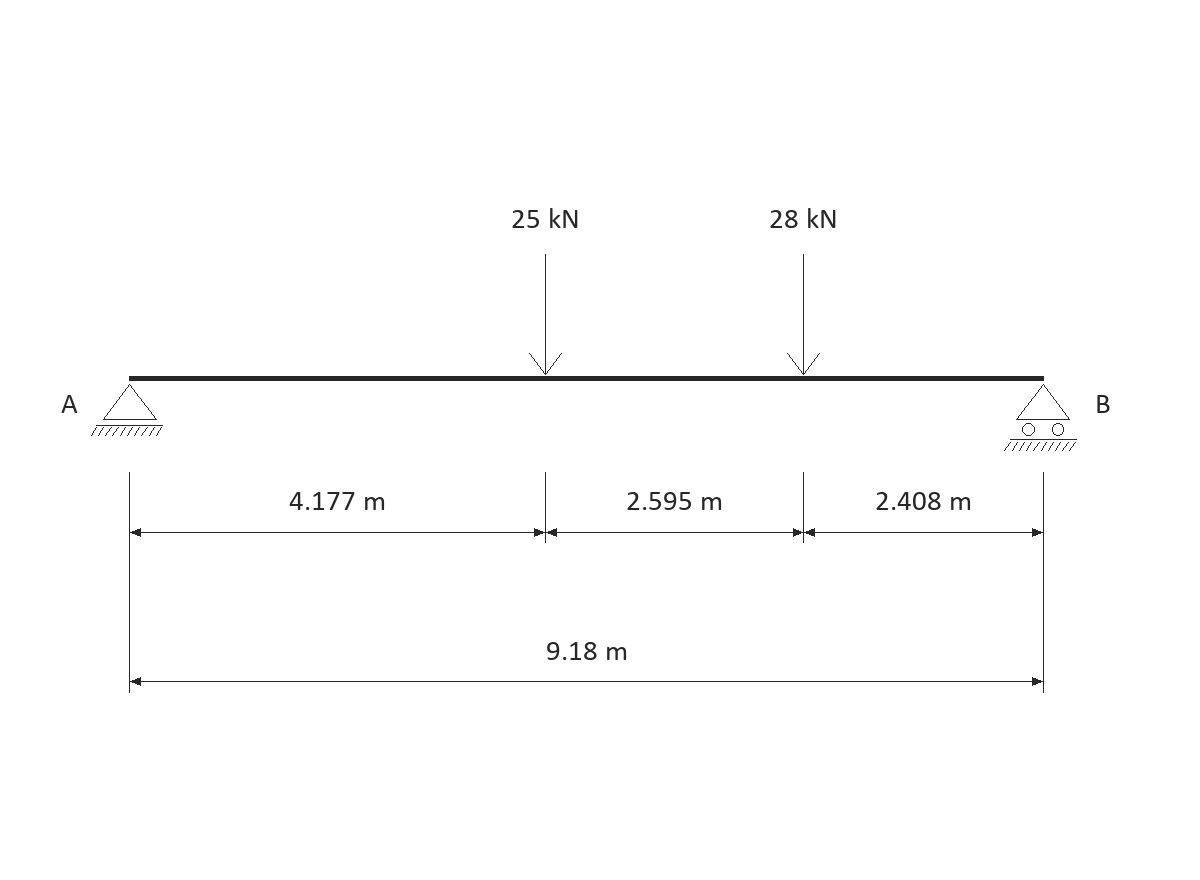pin_support: (91, 384, 163, 436)
point_load: (529, 254, 562, 375), (787, 254, 820, 375)
roller_support: (1004, 384, 1077, 451)
